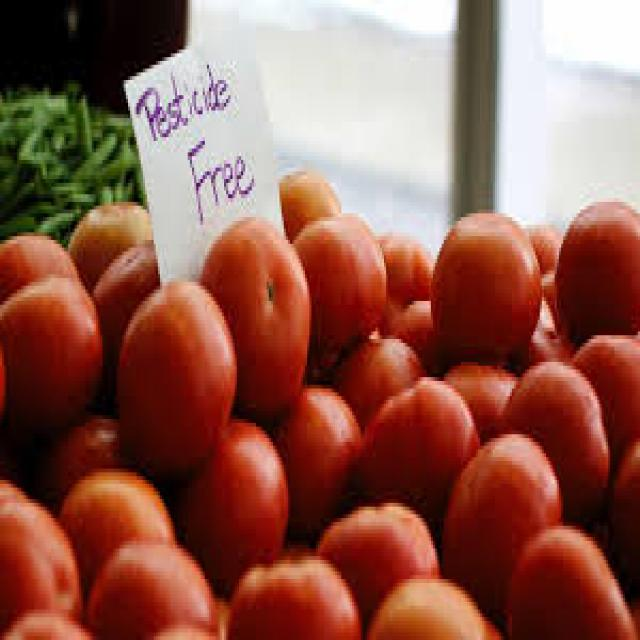organic waste: (435, 423, 559, 621), (198, 214, 310, 416), (115, 278, 235, 465), (350, 370, 482, 534), (0, 229, 98, 434), (175, 415, 286, 587), (493, 358, 608, 514), (428, 210, 538, 366), (314, 499, 437, 625), (290, 214, 386, 374), (504, 518, 634, 636), (60, 465, 175, 590), (83, 534, 220, 636), (271, 385, 356, 533), (555, 198, 638, 343), (62, 80, 147, 221), (0, 476, 77, 629), (224, 556, 358, 636), (0, 76, 66, 232), (569, 328, 638, 472), (328, 332, 424, 434), (365, 572, 499, 636), (373, 224, 433, 366), (34, 412, 120, 506), (92, 236, 158, 347), (70, 194, 154, 278), (442, 358, 516, 438), (516, 267, 576, 362), (275, 168, 339, 244), (608, 434, 638, 594), (0, 606, 90, 636), (70, 126, 116, 175), (525, 224, 559, 266), (75, 91, 94, 152), (100, 106, 130, 130), (627, 591, 638, 636), (0, 327, 4, 419)
